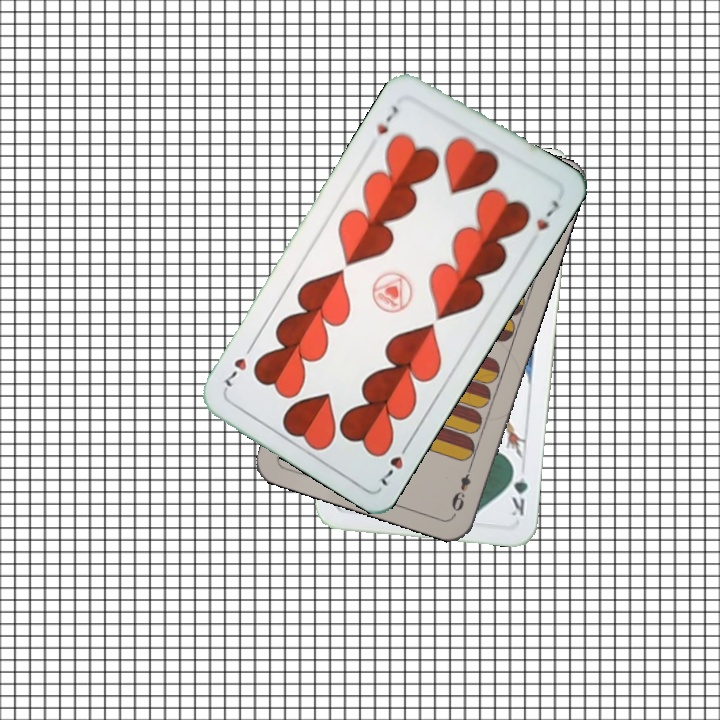E9: (447, 459, 476, 514)
GK: (507, 461, 531, 519)
H7: (377, 437, 414, 489), (372, 101, 402, 137)
